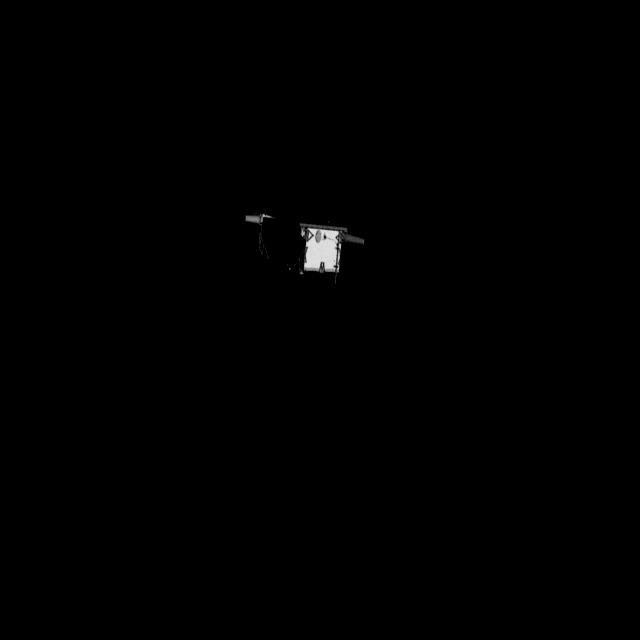satellite: (230, 204, 372, 288)
